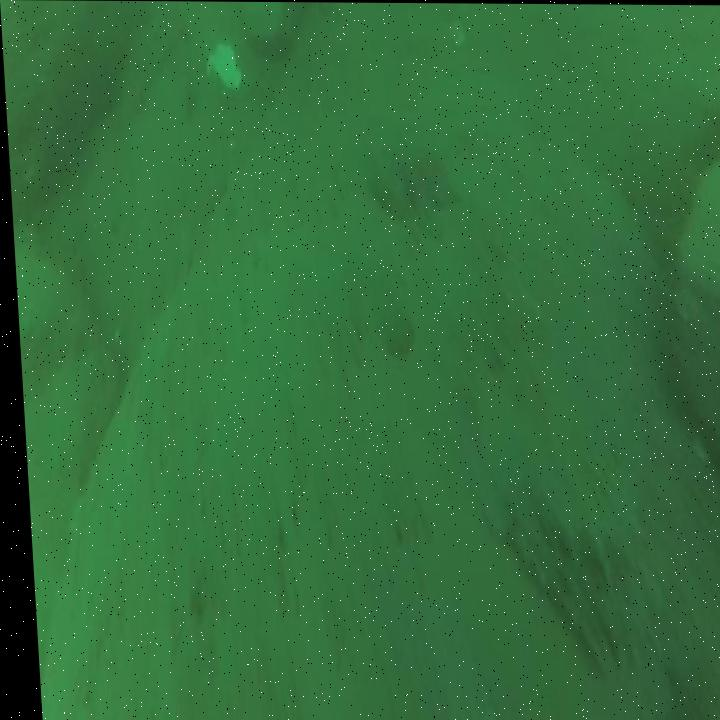holothurian: (531, 483, 640, 583)
starfish: (381, 132, 464, 229)
